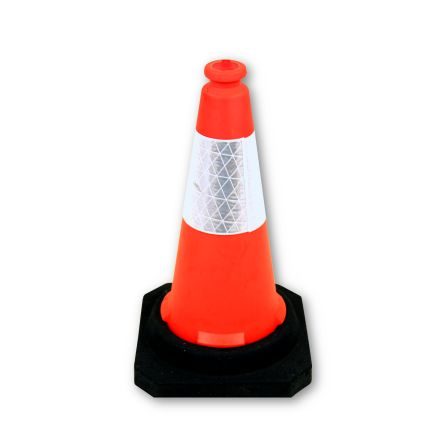Road_cone: (132, 56, 316, 400)
